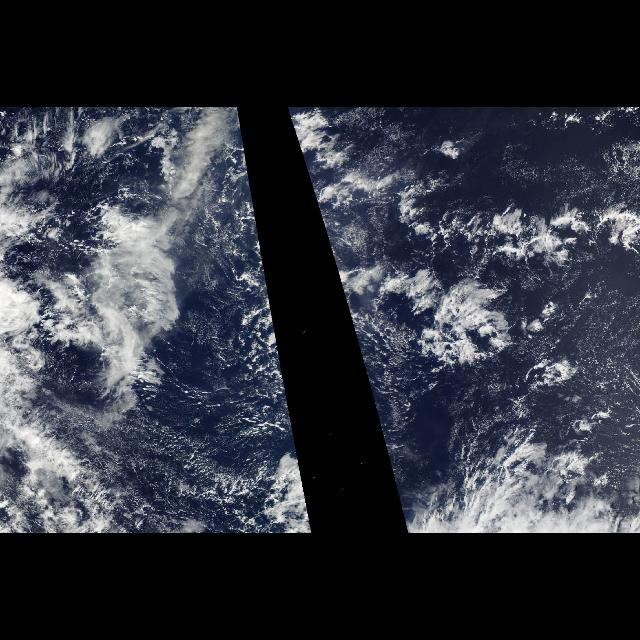Gravel: (368, 178, 628, 366)
Sugar: (478, 116, 640, 440), (63, 379, 289, 529)
